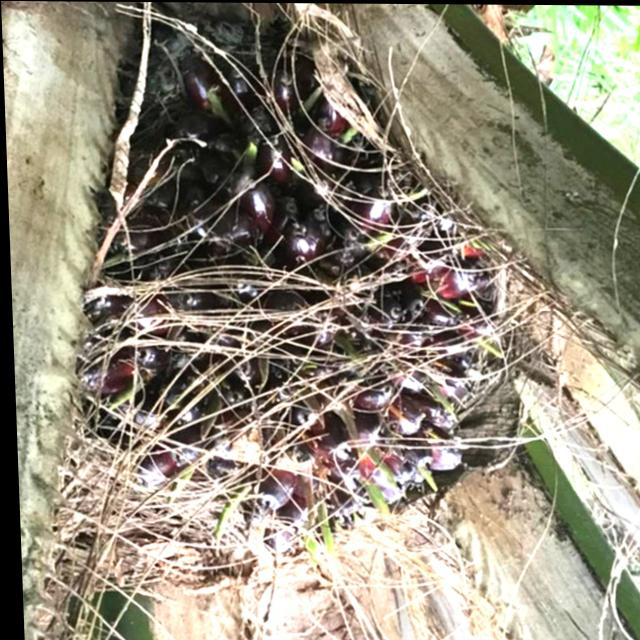ripe: (44, 55, 546, 588)
